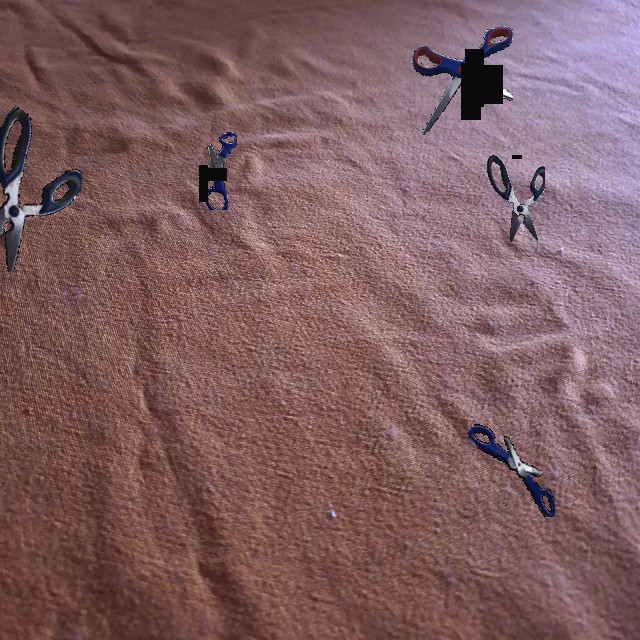scissors: (0, 105, 82, 272), (411, 26, 513, 135), (468, 424, 555, 517), (487, 155, 545, 242), (198, 132, 237, 210)
